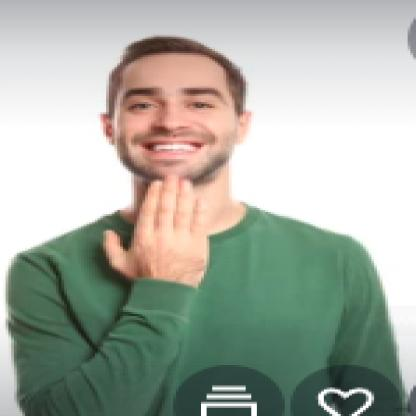thankyou: (90, 164, 224, 303)
